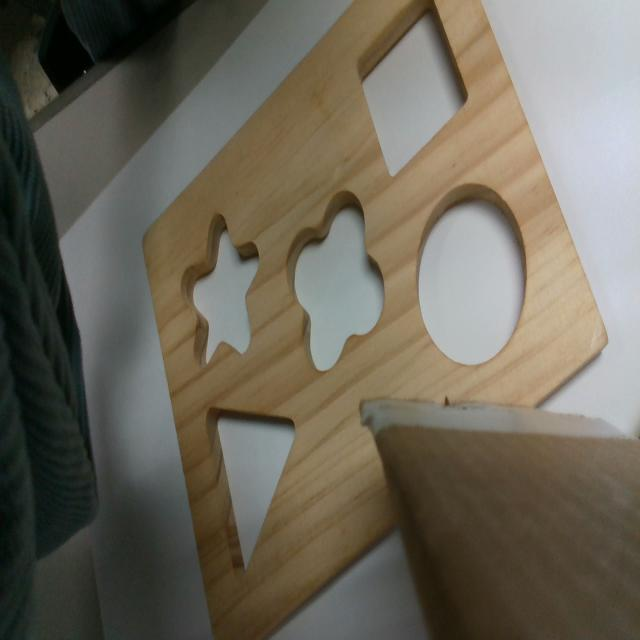circle: (418, 186, 527, 363)
flower: (285, 191, 385, 369)
square: (357, 2, 470, 179)
star: (180, 212, 258, 366)
triangle: (203, 404, 299, 580)
